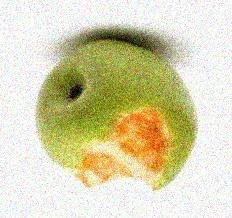rotten apple: (25, 37, 200, 199)
